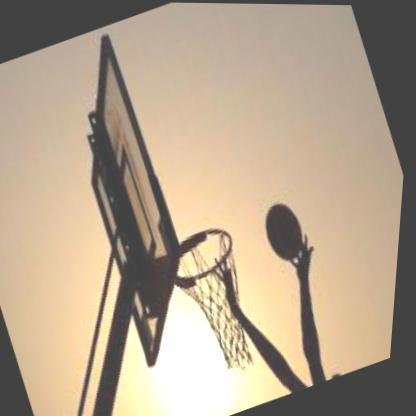basketball: (258, 195, 316, 268)
rim: (163, 217, 252, 294)
